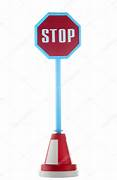stop: (32, 11, 81, 59)
